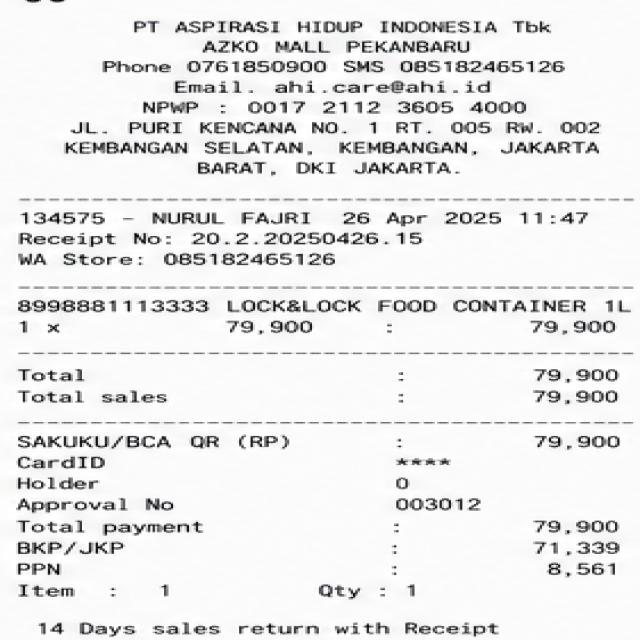date: (329, 207, 606, 230)
store: (114, 15, 576, 57)
total: (11, 515, 640, 537)
